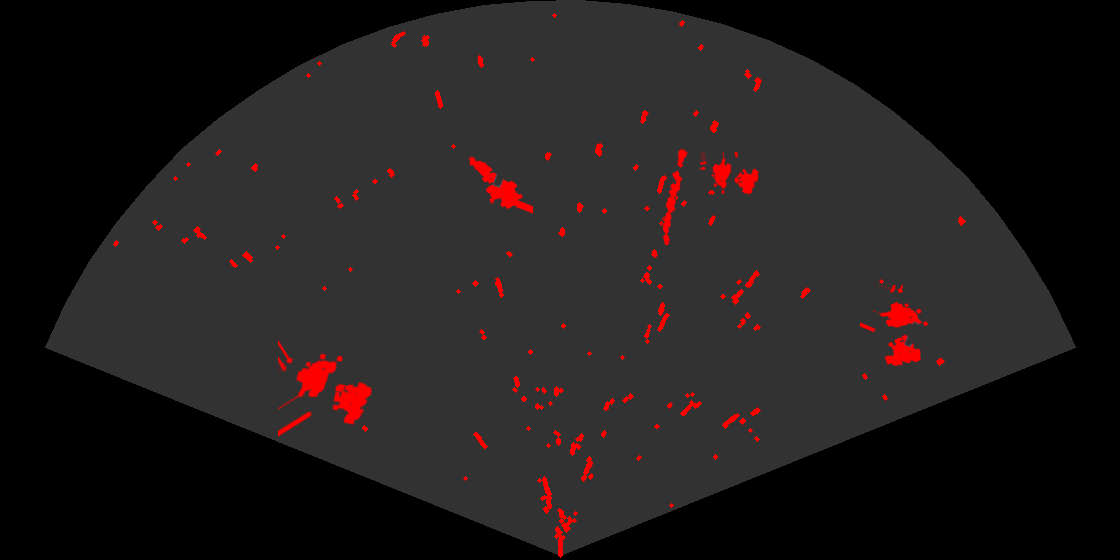cage: (278, 338, 374, 439), (860, 285, 930, 368), (700, 152, 761, 196)
chain: (661, 146, 689, 247)
frogman: (467, 155, 533, 215)
